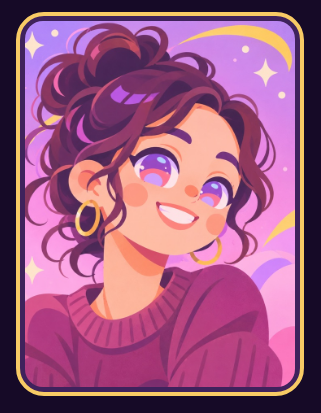
Scenario: commits at 90 degrees in direction -1 and requires a new gesture
Press the mouse on the button named "Lucía Sandoval, Común, 1 copias, ilustración" at [160, 204], box [16,12,304,396]
Wait 664 ms
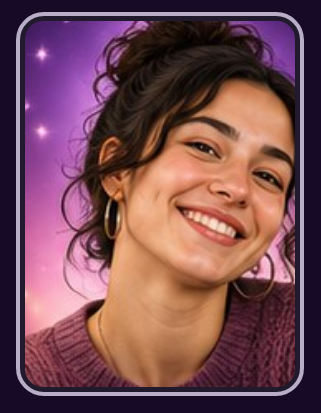
Expected: the button named "Lucía Sandoval, Común, 1 copias, fotografía" has attribute data-rear="true"
Press the mouse on the button named "Lucía Sandoval, Común, 1 copias, fotografía" at [160, 204], box [16,12,304,396]
Wait 32 ms
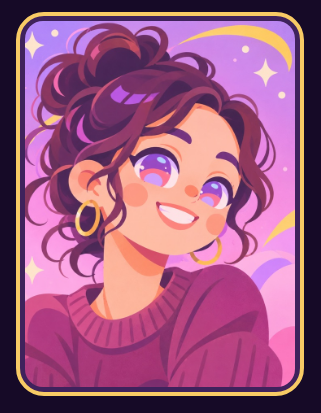
Expected: the button named "Lucía Sandoval, Común, 1 copias, ilustración" has attribute data-rear="false"
